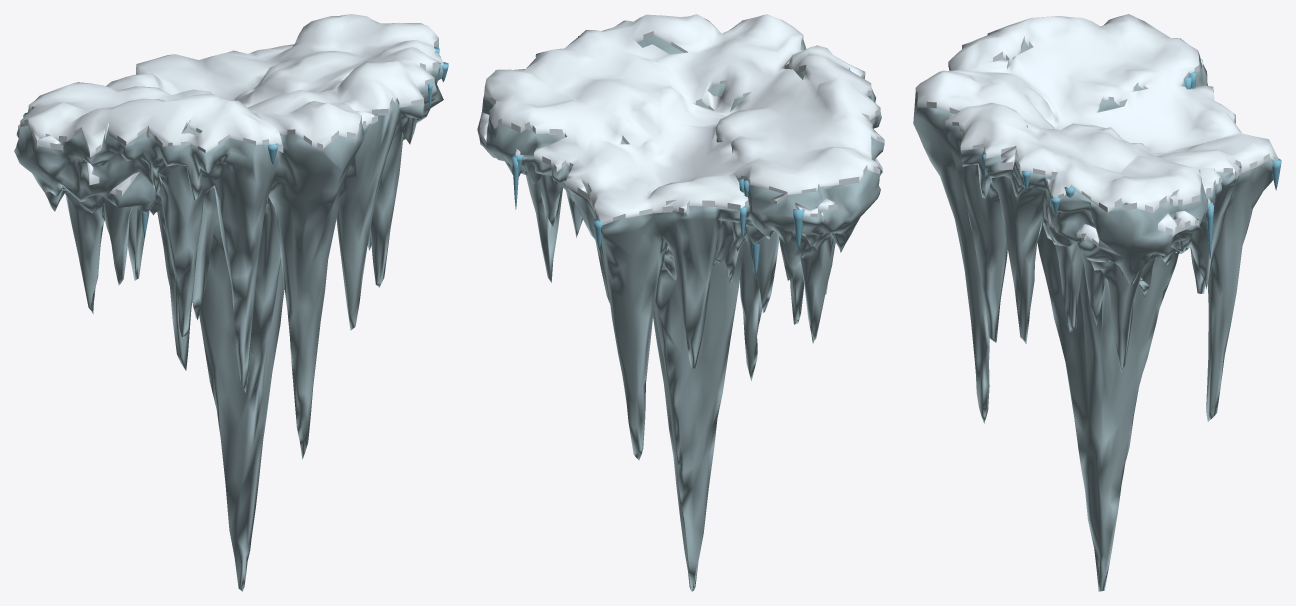
File: SecondRoom_IcicleCanopy.fbx
The picture shows the model from 3 angles, left to right: view 1: azimuth 30°, elevation 25°; view 2: azimuth 150°, elevation 25°; view 3: azimuth 270°, elevation 25°; orthographic projection. The views are drawn at different scales.
Visible parts, largest first — view 1: SecondRoom_IcicleCanopy_LOD0; view 2: SecondRoom_IcicleCanopy_LOD0; view 3: SecondRoom_IcicleCanopy_LOD0.
Part boxes in pixels (bbox=[...]): SecondRoom_IcicleCanopy_LOD0: bbox=[14, 14, 448, 591]; SecondRoom_IcicleCanopy_LOD0: bbox=[477, 14, 884, 591]; SecondRoom_IcicleCanopy_LOD0: bbox=[913, 14, 1281, 591].
Size of what is drawn, in the model's own units: 4.64 by 6.05 by 3.86.
